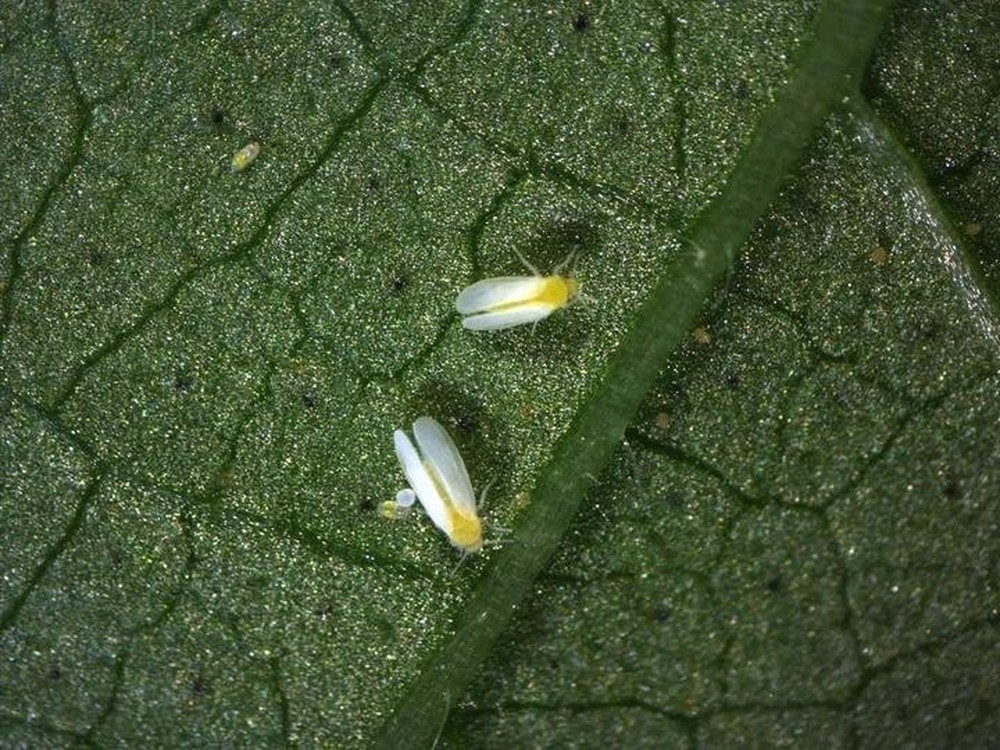Mosca Blanca: (369, 406, 524, 585), (440, 238, 609, 338)
